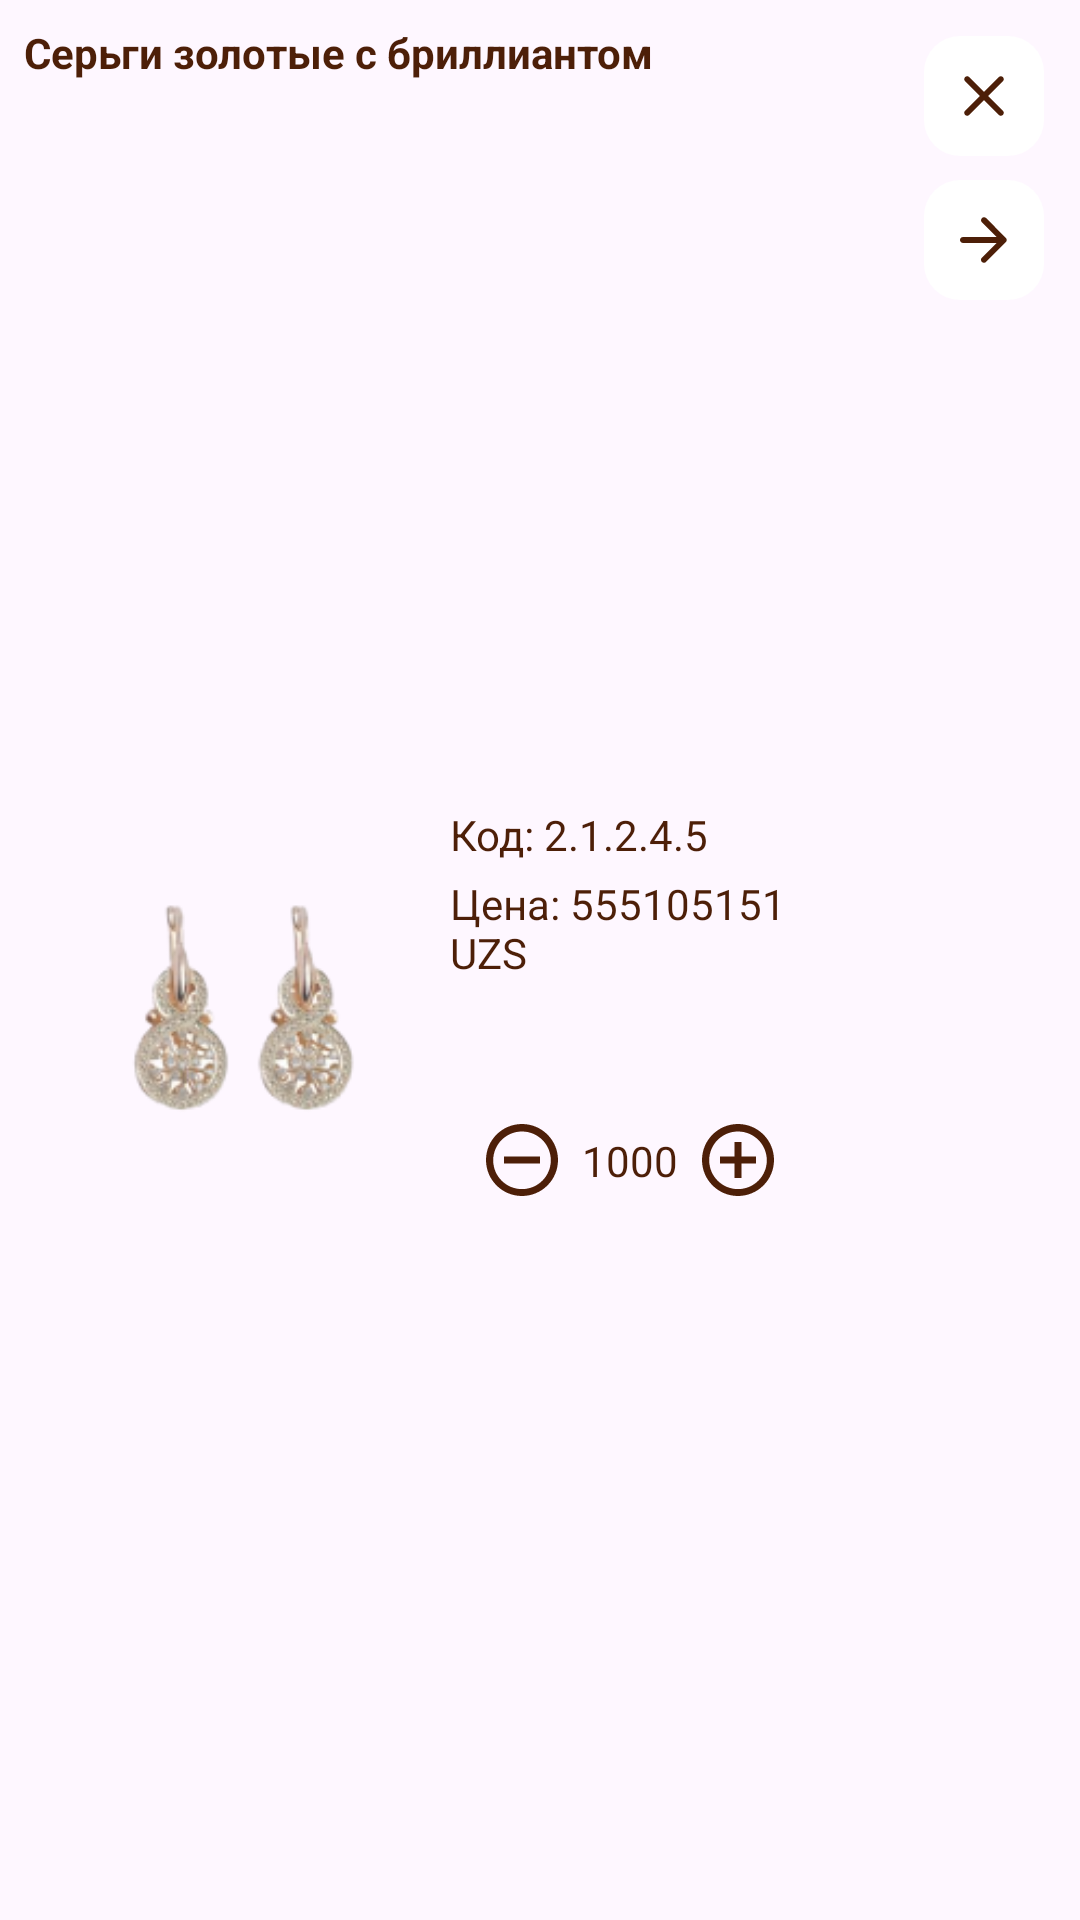

Screen size 1080×1920. Icon name, then its box in pixels as bbox(x1, y1, x2, y2):
add: bbox(702, 1124, 774, 1196)
clear: bbox(964, 76, 1004, 116)
earrings: bbox(134, 906, 353, 1110)
minus: bbox(486, 1124, 558, 1196)
next: bbox(960, 217, 1007, 263)
